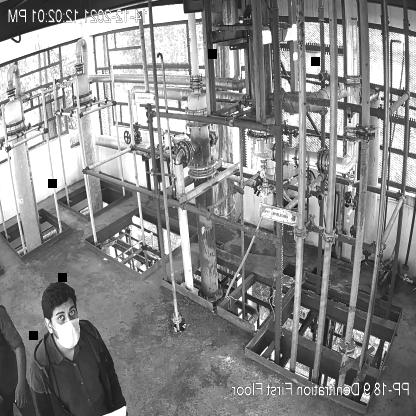no_goggles: (53, 305, 78, 324)
